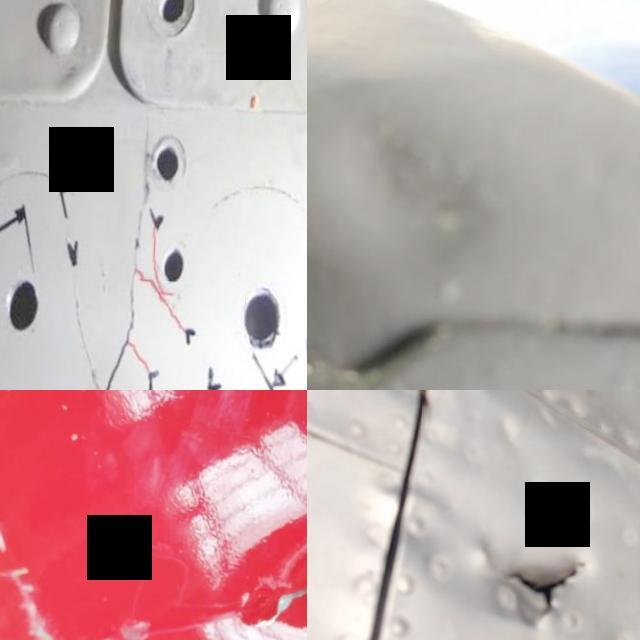Crack: (107, 94, 195, 390), (163, 483, 307, 640), (492, 530, 592, 640), (74, 279, 118, 390)
Dent: (307, 82, 526, 289)
